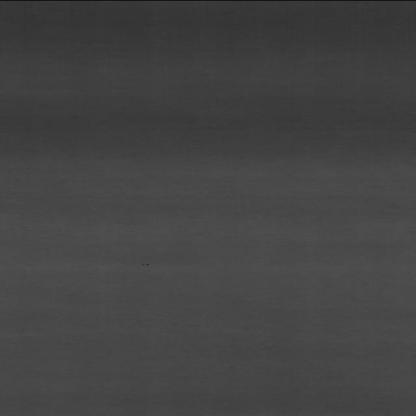inclusion: (135, 262, 152, 268)
